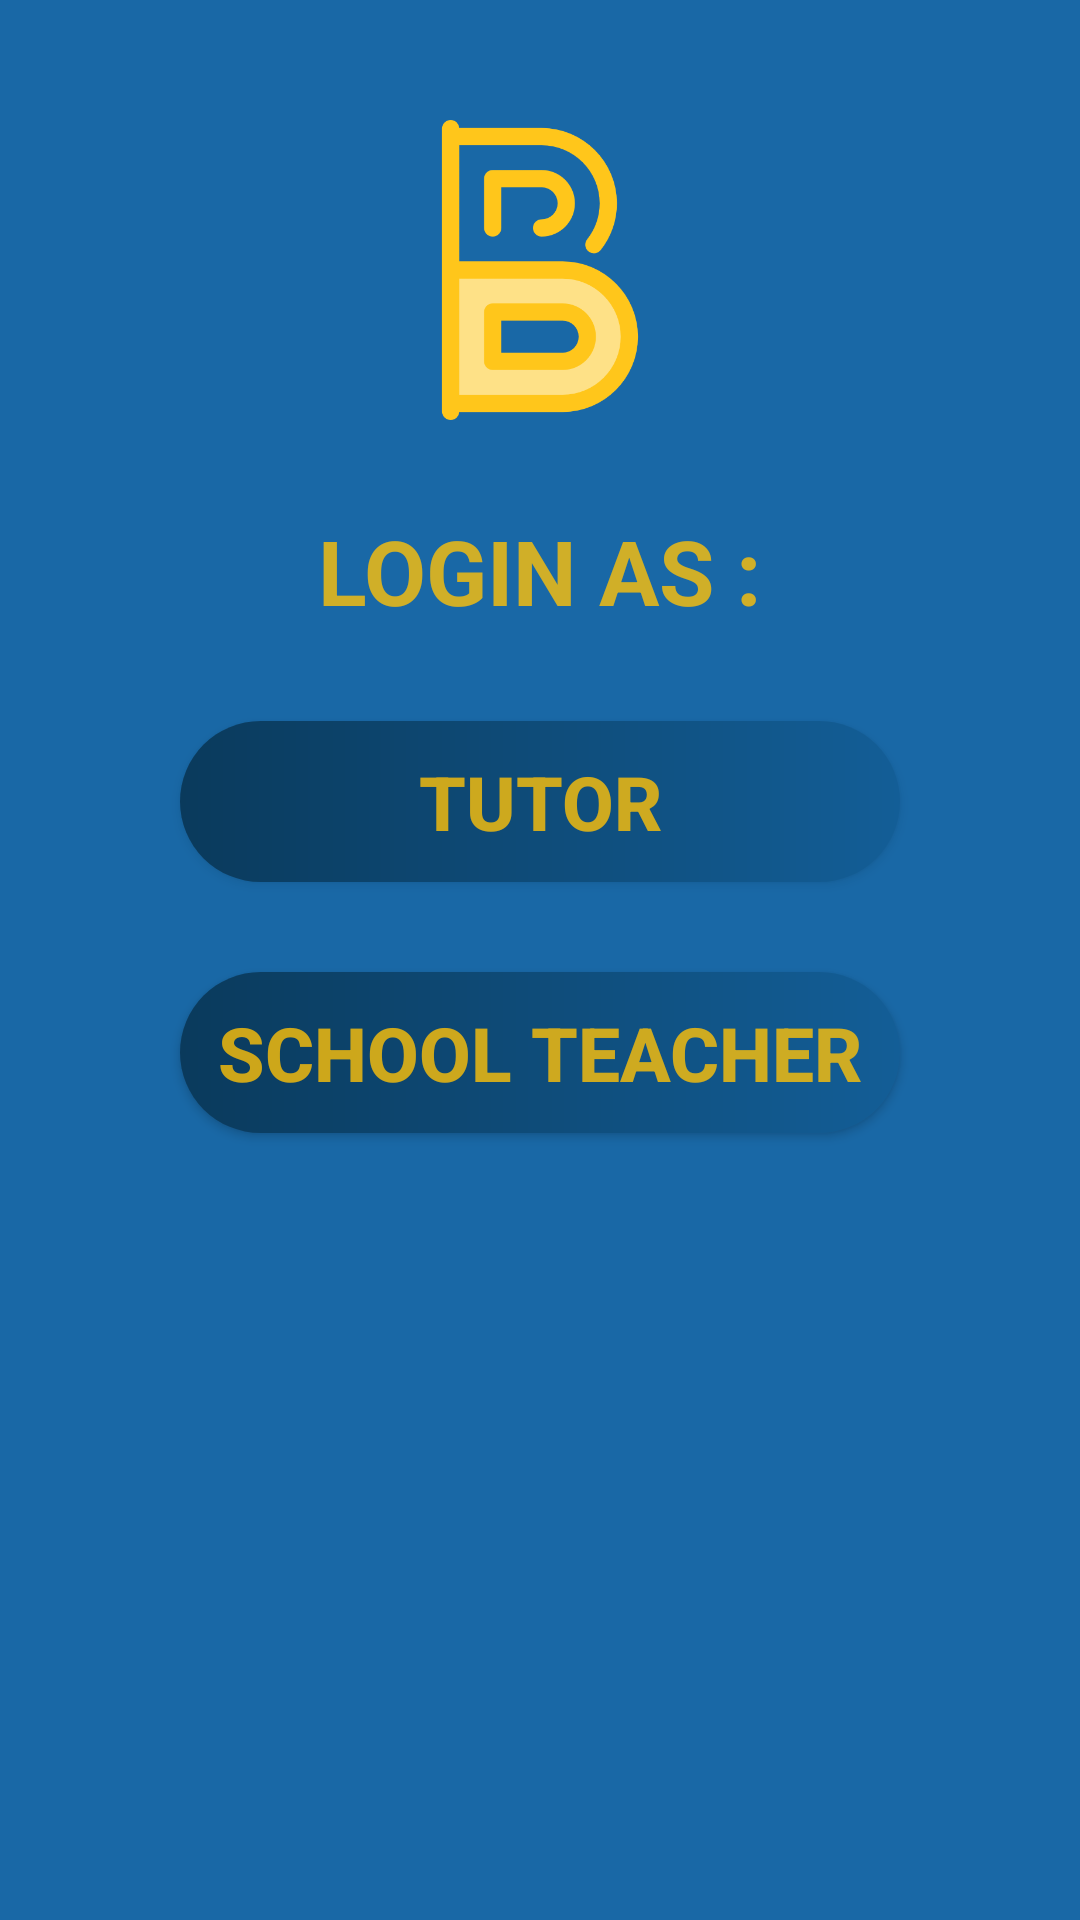

Icon click points for this 1080 × 1920 phone screenshot, format [x,y]:
letterb: [540,270]
